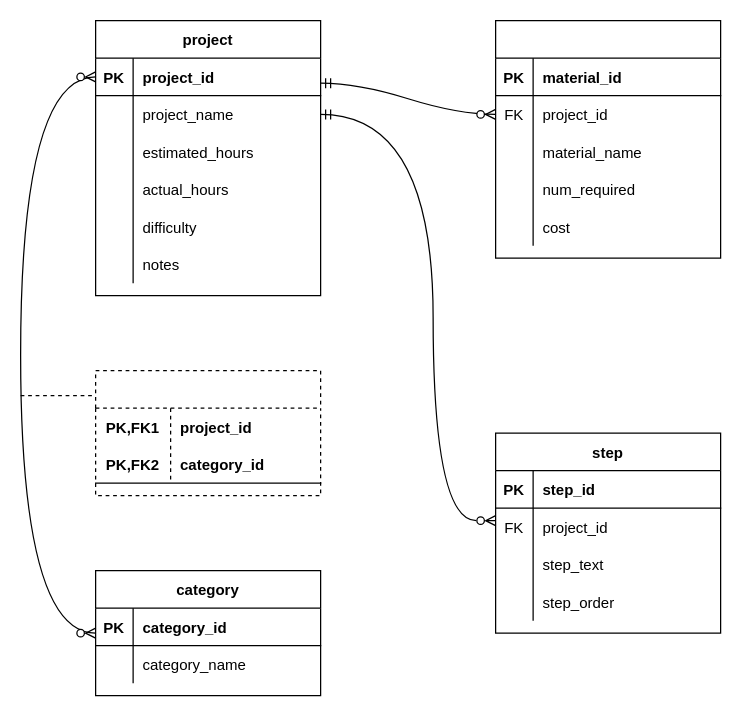
Image size: 741x716. Some labels were removed from this diagram. Here are the shapes that lost their labels. From the top down, the box of each, then its label:
(494, 19, 721, 258): Msterial
(94, 369, 321, 496): project_category
